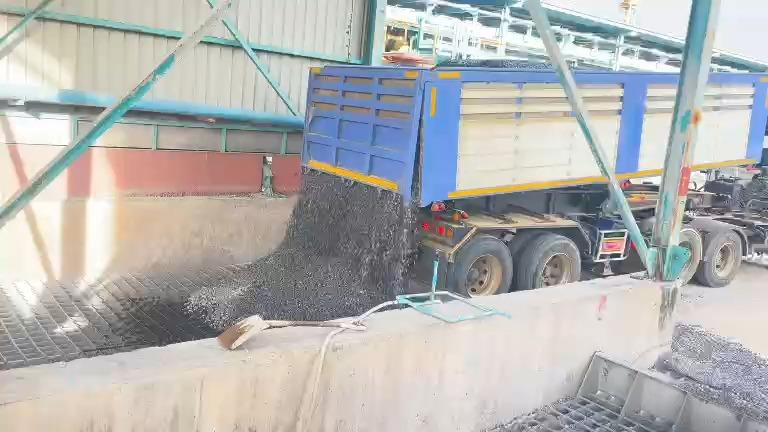gravel: (186, 171, 414, 328), (665, 324, 767, 420), (433, 58, 552, 70)
